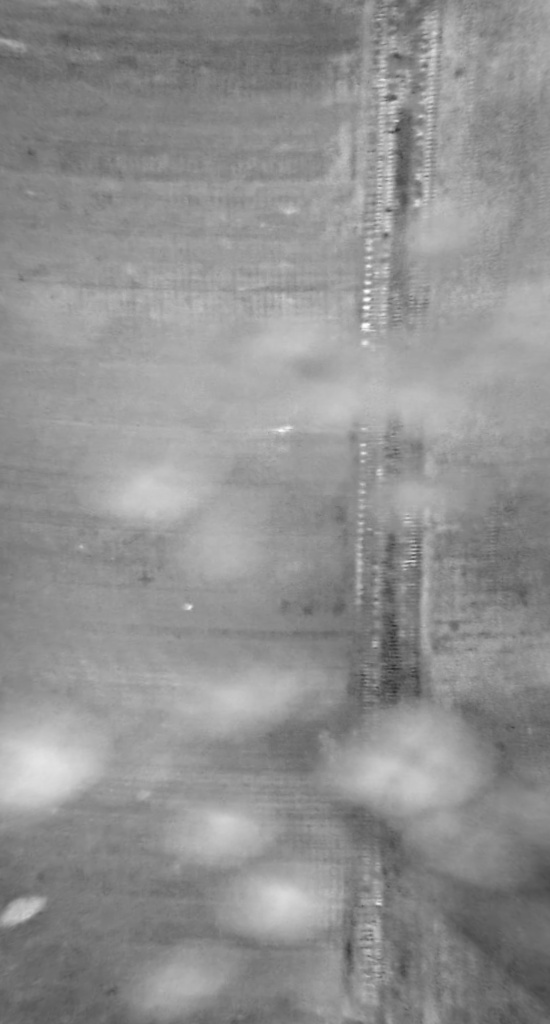splice: (352, 1, 449, 1021)
